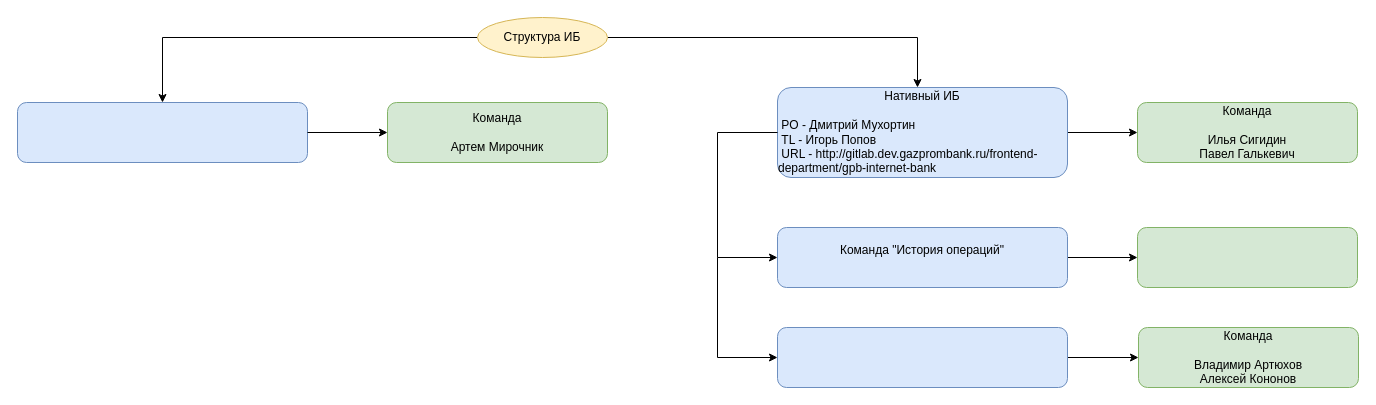
The diagram is 1376 pixels wide and 405 high, and some of its shapes have lost their labels. Each missing label, with the centre of its shape:
Команда "Витрина продуктов" PO - Алексей Шевчук TL - Артем Журавский: the point at 162,132
Команда "Вход и Профиль": the point at 922,357
Команда Мемет Белялов: the point at 1247,257
